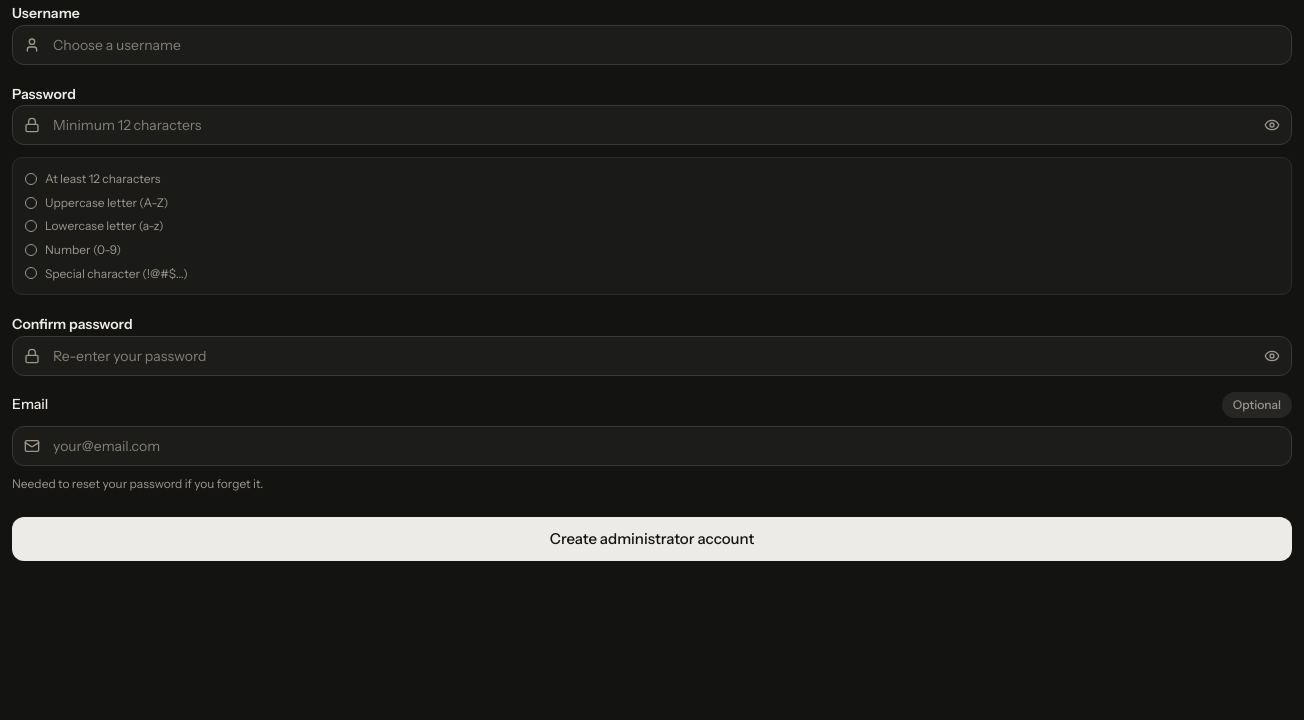
it: SetupForm › disables the form while creating the account
Type "admin" into the field labelled "Username" at (652, 45), box [12,25,1292,65]
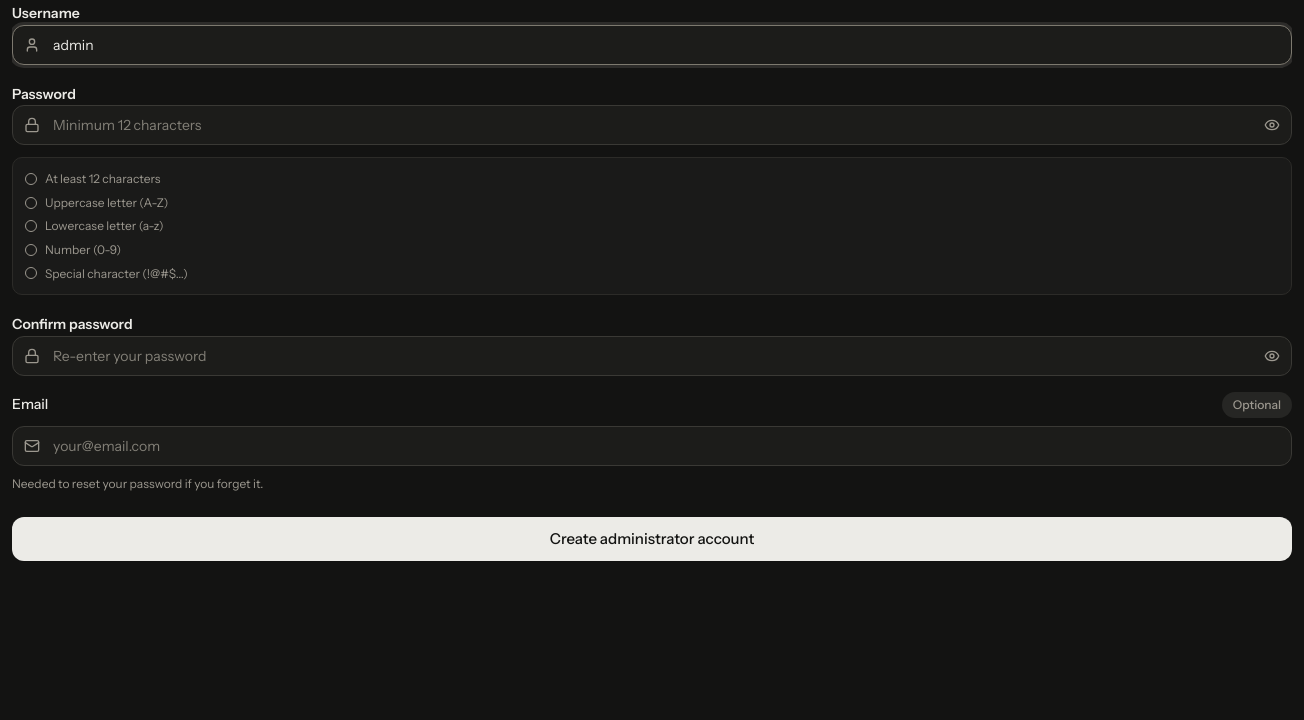
Type "Str0ng!Passw0rd" into the password field labelled "Password" at (652, 125), box [12,105,1292,145]
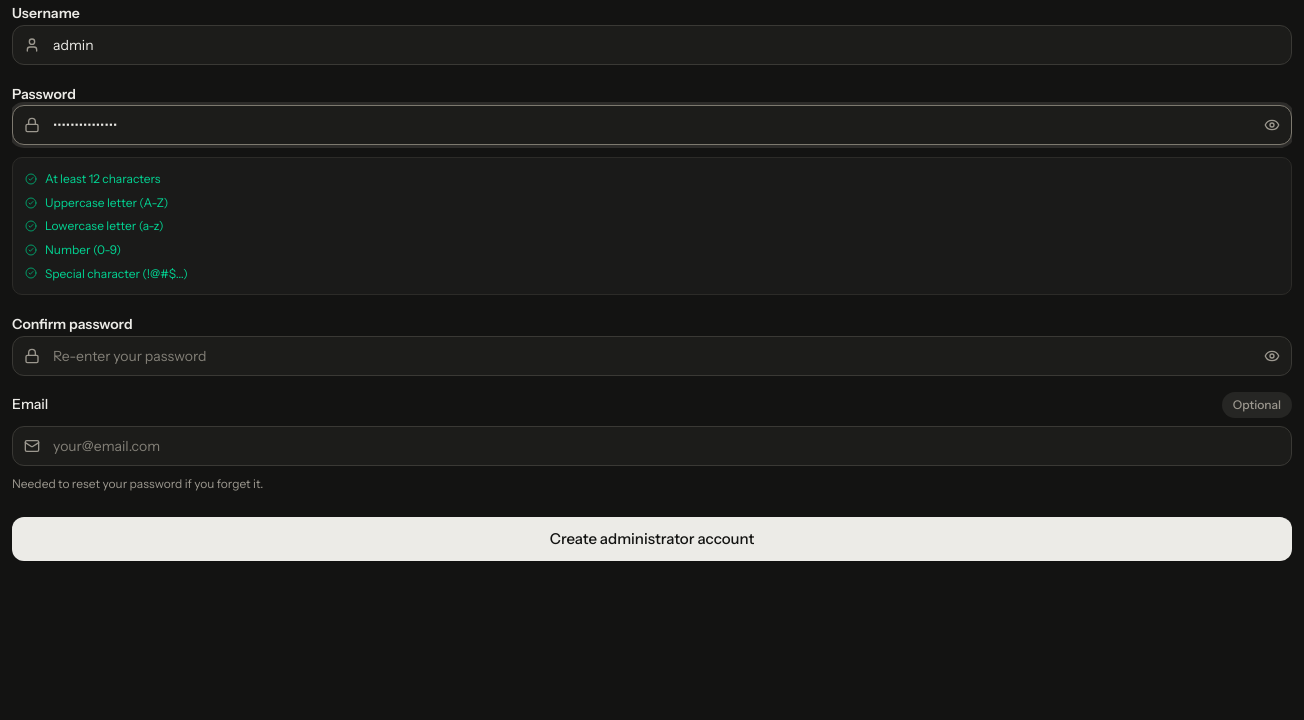
Type "Str0ng!Passw0rd" into the password field labelled "Confirm password" at (652, 356), box [12,336,1292,376]
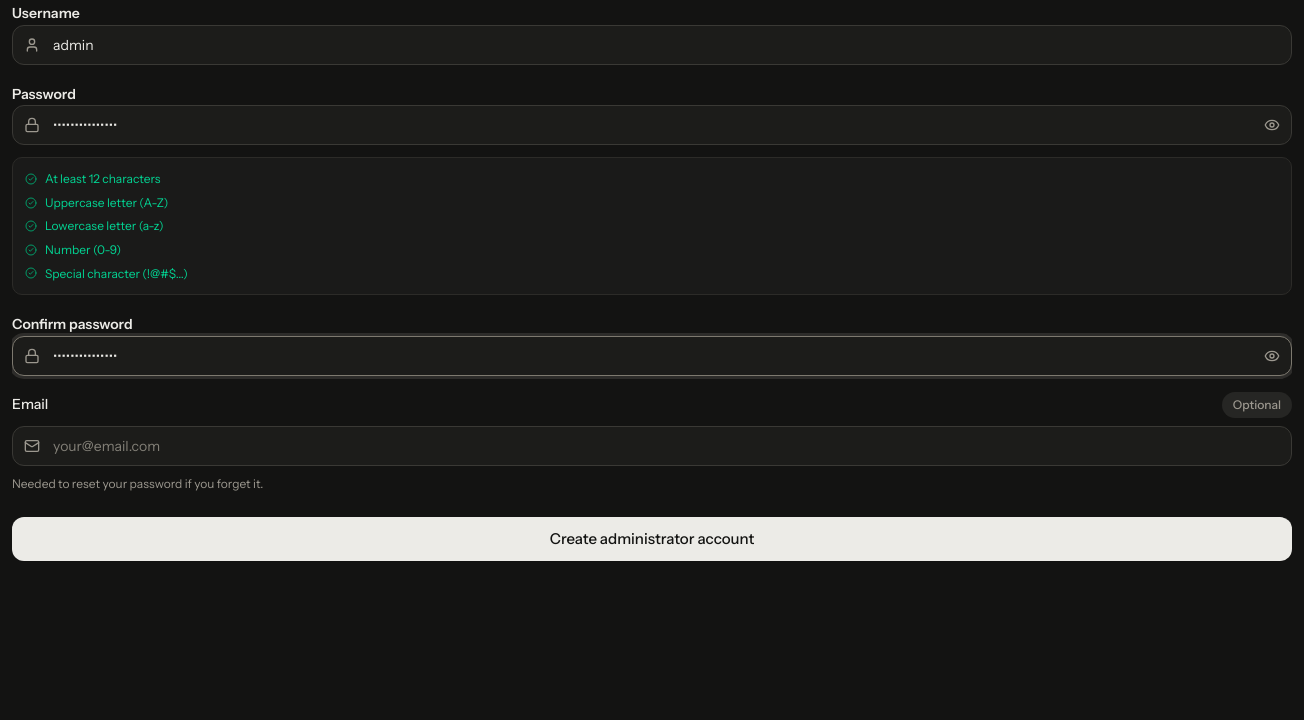
Click the button "Create administrator account" at (652, 539), box [12,517,1292,561]
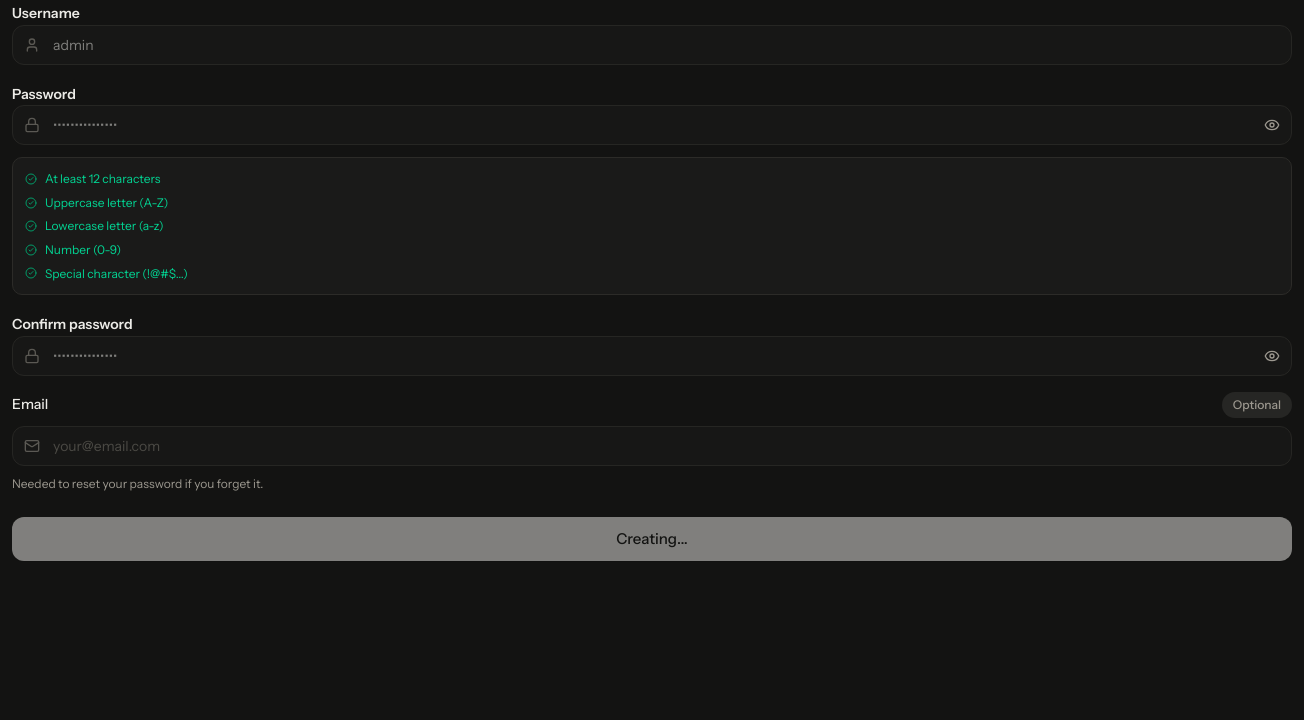
Expected: the button "Creating..." is disabled, [12,517,1292,561]
Expected: the field labelled "Email" is disabled, [12,426,1292,466]
